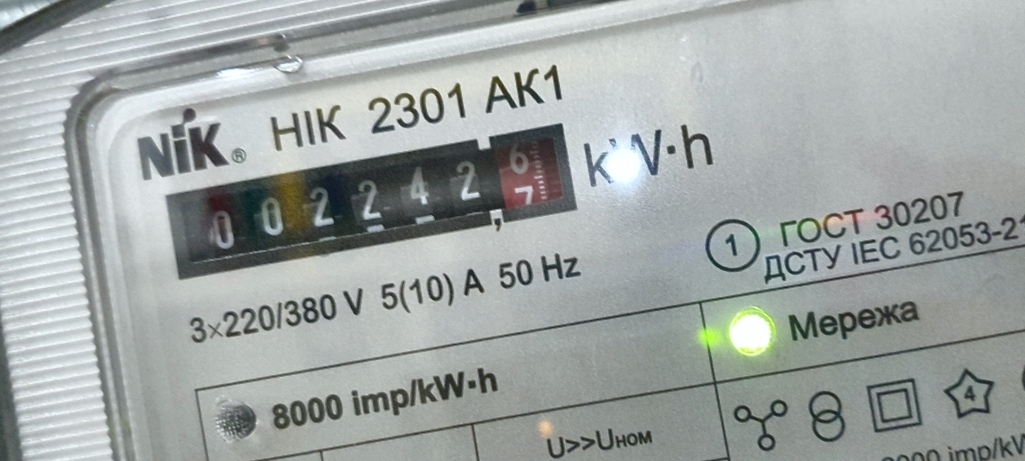0: (257, 193, 288, 239), (210, 205, 239, 253), (308, 183, 338, 229)
2: (453, 157, 484, 204), (356, 176, 386, 223)
4: (404, 163, 434, 209)
6: (506, 141, 534, 177)
7: (512, 182, 539, 208)
screen: (153, 110, 598, 296)
